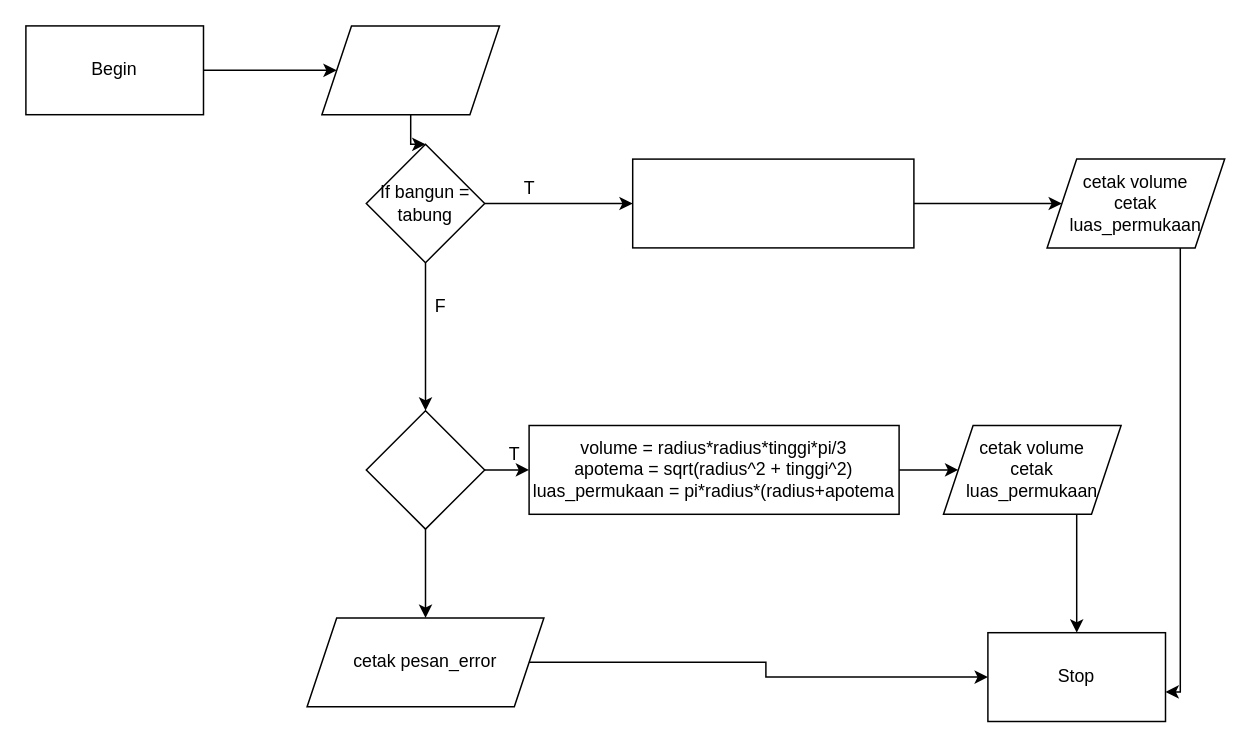
This 1251x747 diagram has some shape labels left out. The centre of each missing label's shape, as x and y in pixels:
If bangun = kerucut: point 425,469
Masukkan diameter, tinggi, bentuk: point 410,69
volume = radius*radius*pi*tinggi luas_permukaan = 2*pi*radius*(radius+tinggi): point 772,203
